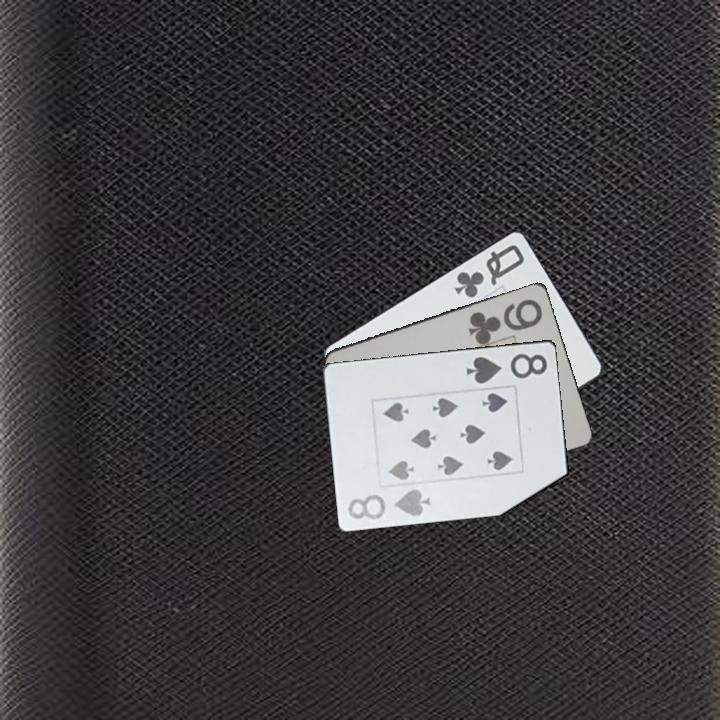8s: (344, 485, 433, 522), (463, 349, 551, 386)
9c: (465, 295, 546, 345)
Qc: (450, 240, 528, 300)
